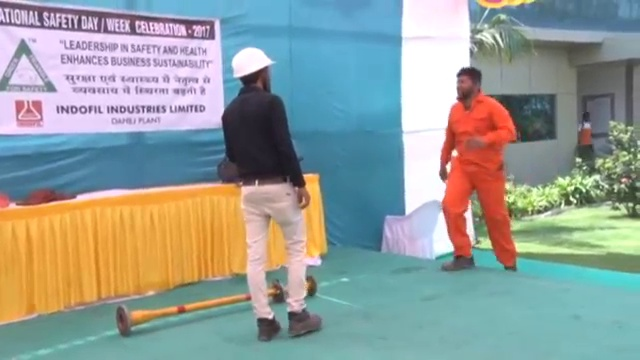helmet: (230, 46, 280, 79)
helmet_off: (451, 67, 484, 104)
helmet_on: (229, 46, 279, 98)
person: (221, 47, 323, 339), (441, 68, 519, 274), (576, 109, 597, 158)
